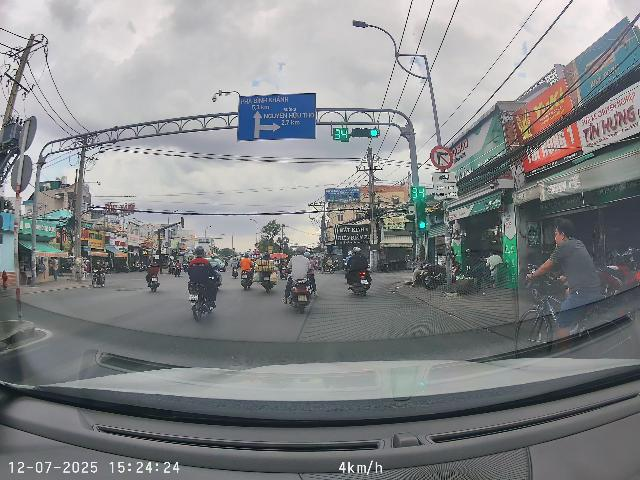123b-cam-re-phai: (430, 145, 453, 170)
